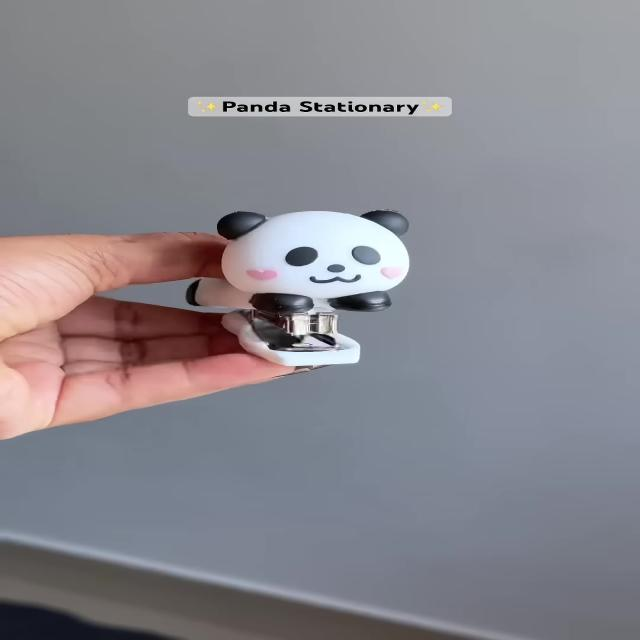stapler: (136, 197, 501, 390)
